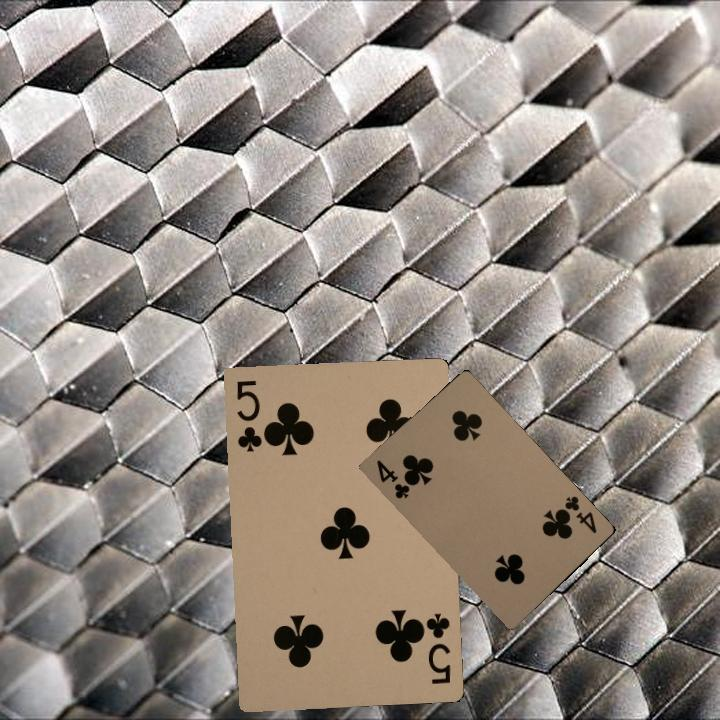4c: (372, 456, 414, 501), (558, 492, 599, 536)
5c: (417, 609, 454, 687), (229, 375, 264, 455)
